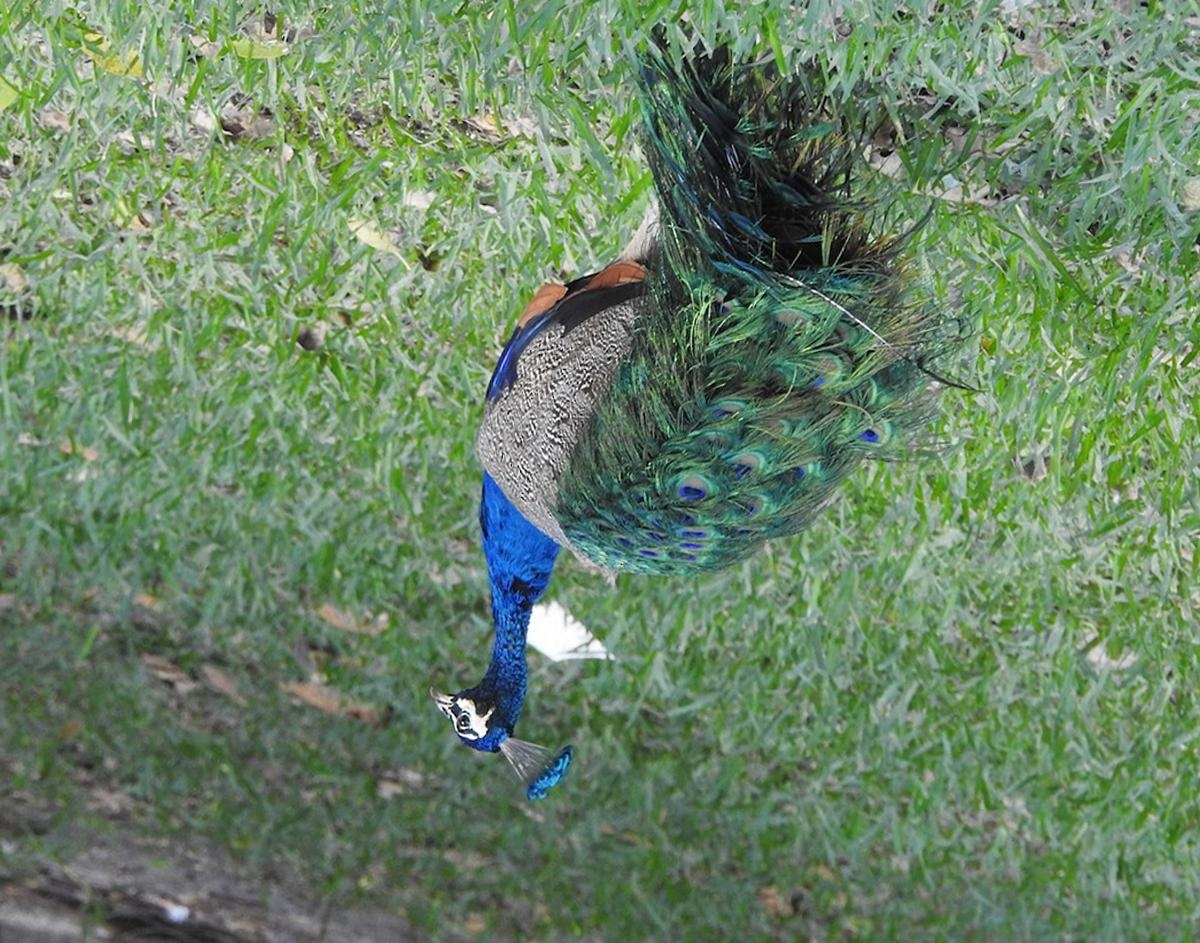peacock: (390, 115, 969, 810)
